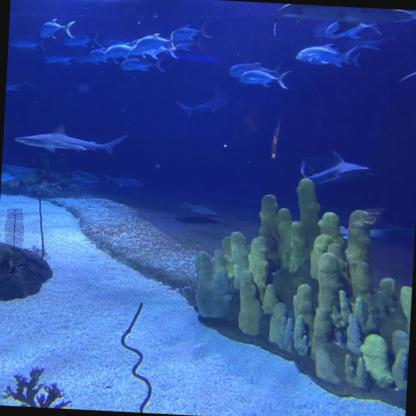fish: (324, 16, 384, 42), (295, 45, 359, 65), (239, 68, 293, 89), (168, 19, 214, 43), (229, 60, 283, 80), (128, 42, 183, 61), (308, 50, 363, 68), (120, 56, 167, 74), (104, 42, 146, 62), (40, 18, 76, 40), (45, 49, 87, 67), (135, 36, 176, 54), (10, 34, 49, 51), (104, 174, 144, 190), (64, 32, 104, 48), (166, 36, 204, 52), (6, 76, 36, 96), (89, 47, 120, 64), (66, 170, 100, 182)
shark: (271, 3, 414, 44), (14, 122, 131, 158), (301, 149, 380, 190), (178, 84, 236, 121), (398, 34, 415, 86)
stingray: (178, 201, 222, 218)
